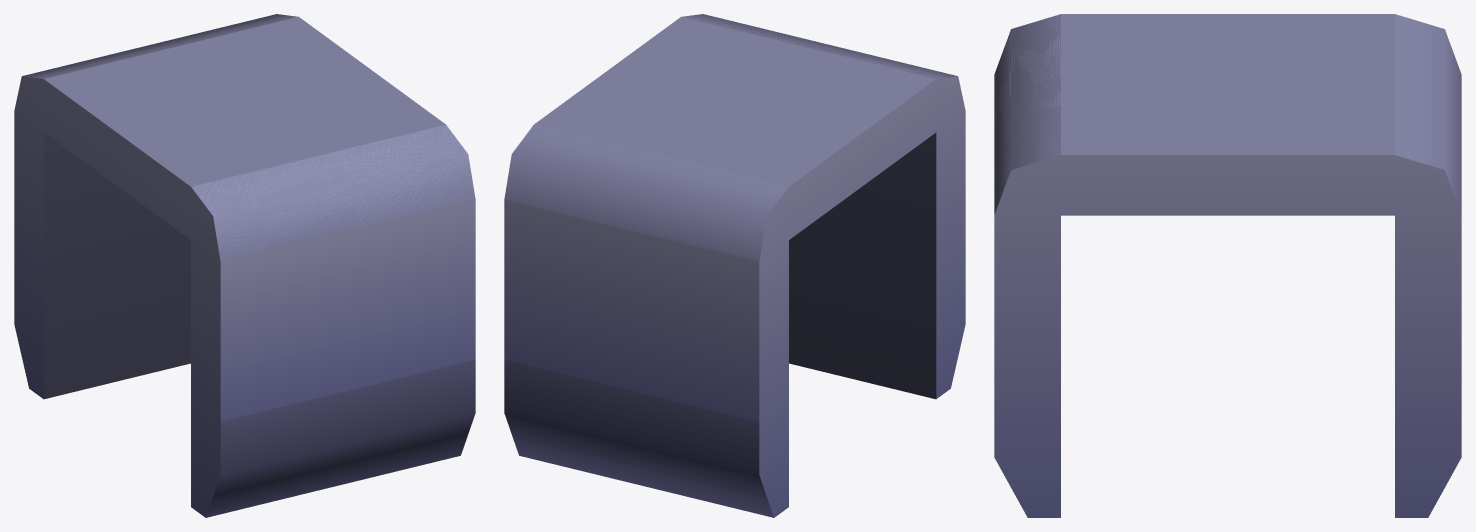
Rendered from cover.glb.
3 views of the same model, side by side, from view 1: azimuth 30°, elevation 25°; view 2: azimuth 150°, elevation 25°; view 3: azimuth 270°, elevation 25° (orthographic). The views are drawn at different scales.
Parts seen in each view (by area): view 1: cover; view 2: cover; view 3: cover.
Part boxes in pixels (bbox=[...]): cover: bbox=[14, 14, 475, 517]; cover: bbox=[504, 14, 965, 517]; cover: bbox=[994, 14, 1461, 517].
Bounding box in the file's own units: 1 × 1.2 × 1.4.
